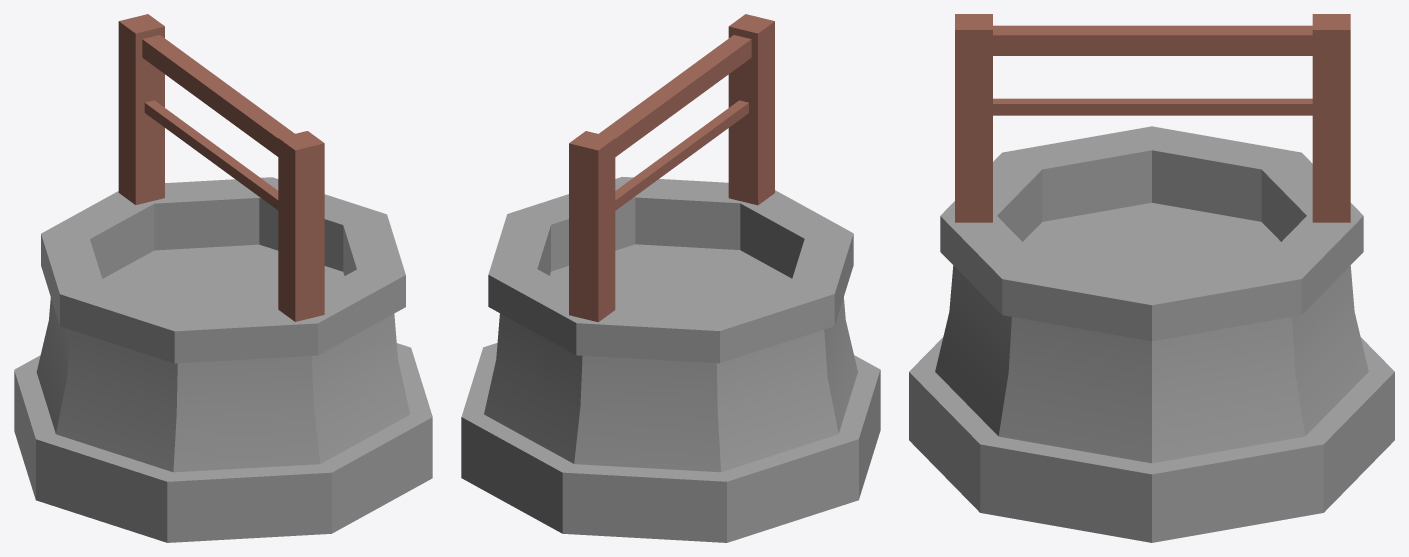
Rendered from Well_Greybox.fbx.
3 views of the same model, side by side, from view 1: azimuth 30°, elevation 25°; view 2: azimuth 150°, elevation 25°; view 3: azimuth 270°, elevation 25° (orthographic). The views are drawn at different scales.
Visible parts, largest first — view 1: Well_Final; view 2: Well_Final; view 3: Well_Final.
Boxes of the visible parts, x1=… form: Well_Final: x1=14, y1=14, x2=432, y2=542; Well_Final: x1=461, y1=14, x2=880, y2=542; Well_Final: x1=909, y1=14, x2=1394, y2=542.
Bounding box in the file's own units: 1.91 × 1.81 × 1.91.
